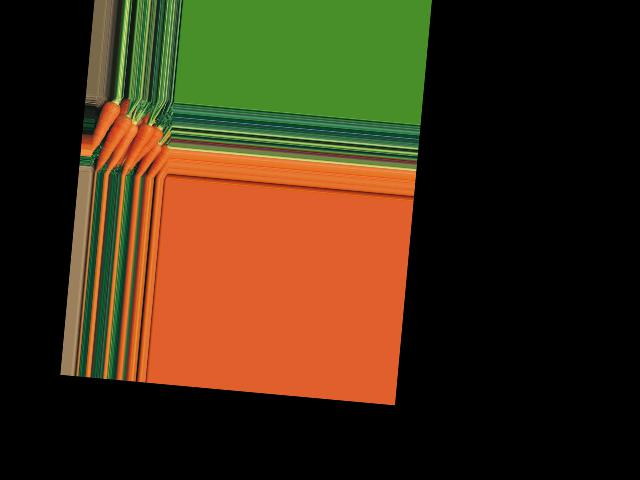carrot: (137, 138, 164, 177)
